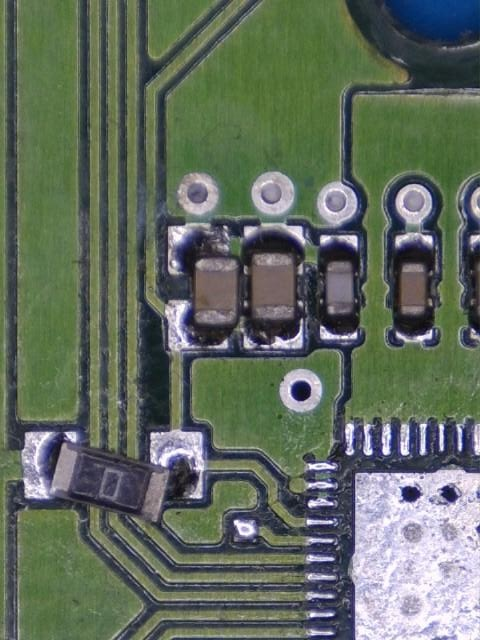pcb_defect: (22, 429, 205, 525), (167, 224, 239, 350)
